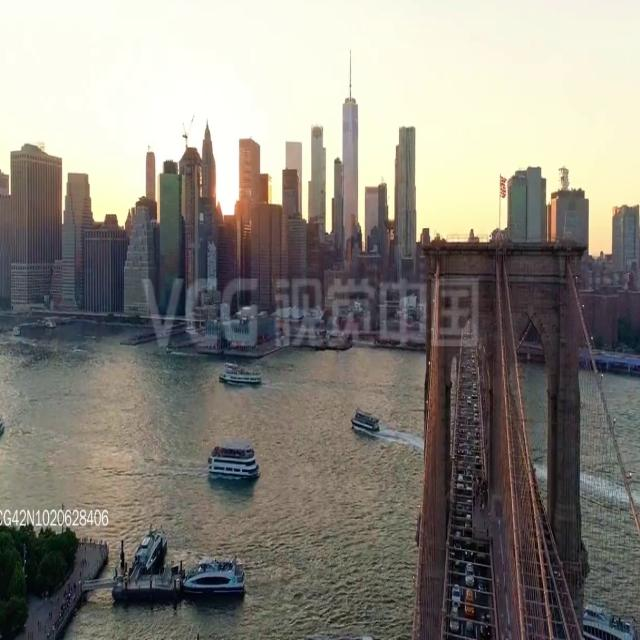houseboat: (186, 556, 250, 600), (581, 603, 640, 640), (0, 411, 5, 444)
passenger ship: (218, 360, 264, 390), (352, 408, 381, 441)
